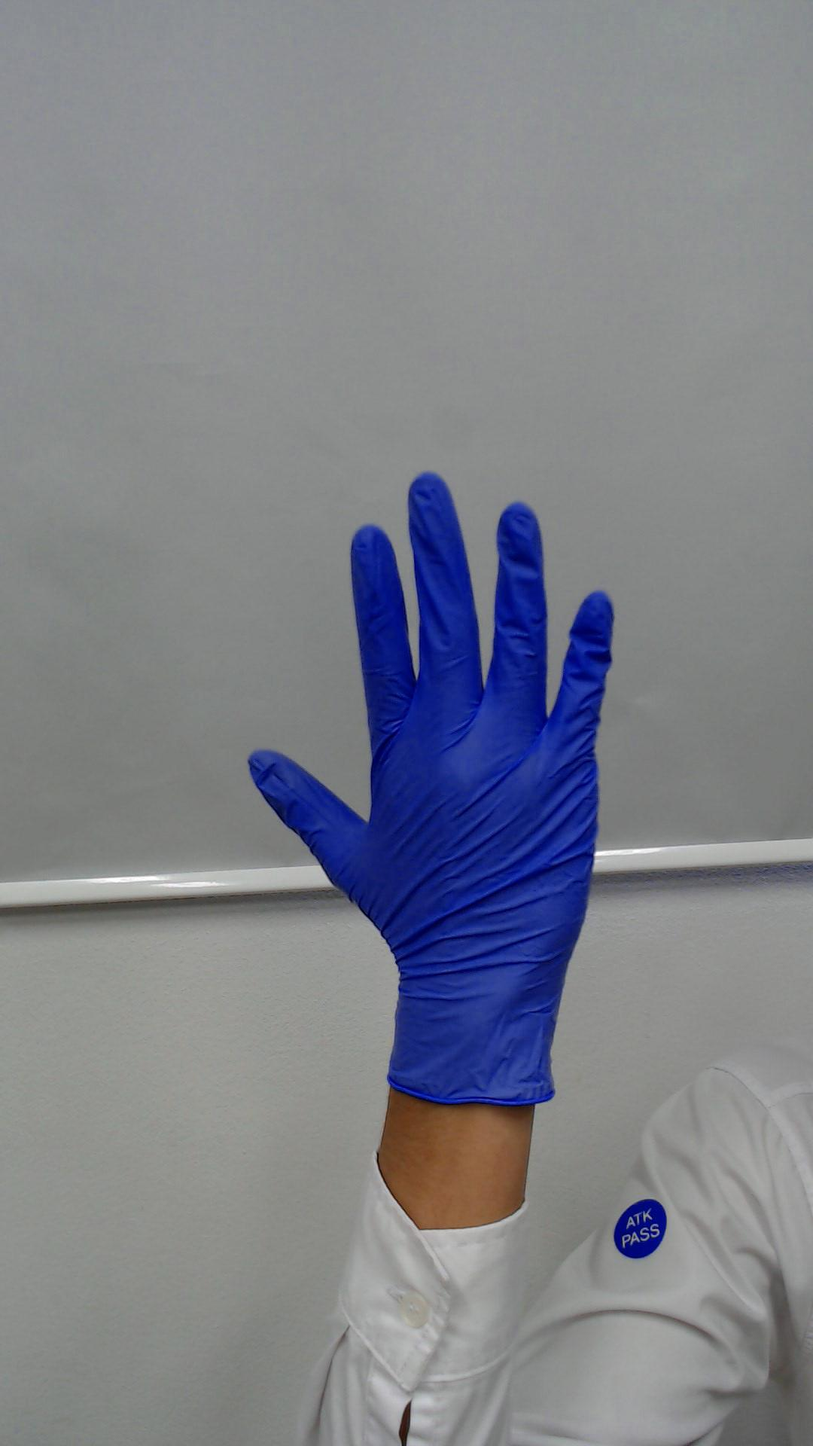gloves: (234, 450, 637, 926)
